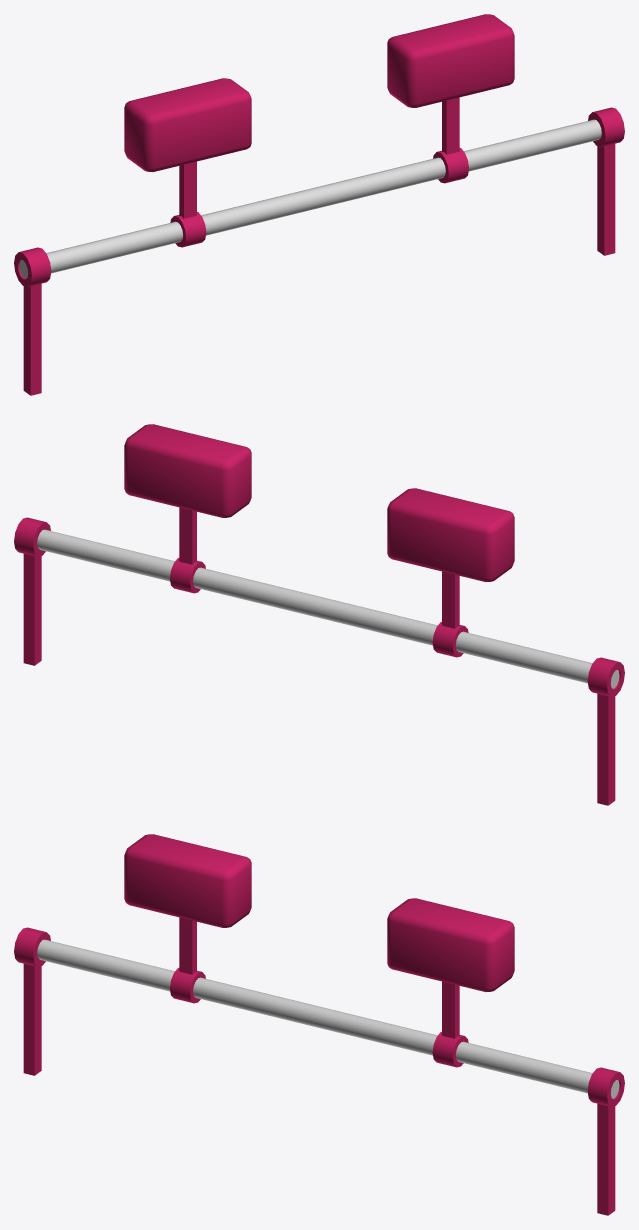
File: barrier_pink.fbx
3 views of the same model, one above another, from view 1: azimuth 30°, elevation 25°; view 2: azimuth 150°, elevation 25°; view 3: azimuth 330°, elevation 25° (orthographic).
Parts seen in each view (by area): view 1: barrier_pink, barrier_2_pink, barrier_1_pink; view 2: barrier_pink, barrier_2_pink, barrier_1_pink; view 3: barrier_pink, barrier_1_pink, barrier_2_pink.
Boxes of the visible parts, <box> form: barrier_pink: <box>14,107,624,395</box>; barrier_2_pink: <box>387,14,514,183</box>; barrier_1_pink: <box>124,78,251,247</box>; barrier_pink: <box>14,517,624,805</box>; barrier_2_pink: <box>124,424,251,593</box>; barrier_1_pink: <box>387,488,514,657</box>; barrier_pink: <box>14,927,624,1215</box>; barrier_1_pink: <box>124,834,251,1003</box>; barrier_2_pink: <box>387,898,514,1067</box>.
Size of the model in its own units: 1.96 by 0.8149 by 0.1508.
